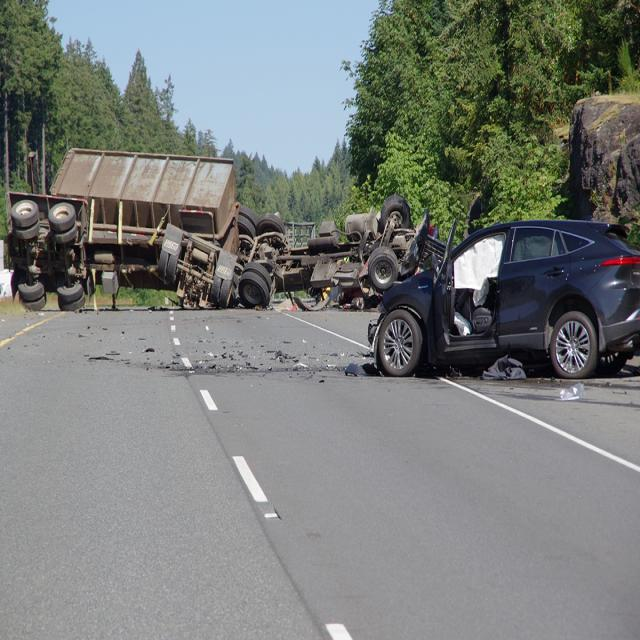Accident: (5, 138, 463, 316), (366, 210, 640, 386)
